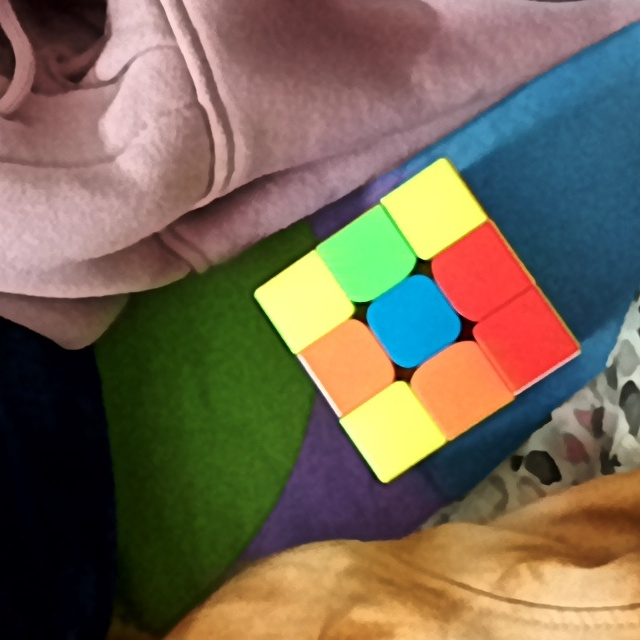tile: (498, 313, 554, 368), (455, 245, 509, 299), (386, 295, 441, 348), (433, 360, 486, 415), (339, 231, 396, 282), (319, 341, 374, 392), (276, 276, 330, 325), (369, 405, 421, 455), (408, 184, 460, 232)
